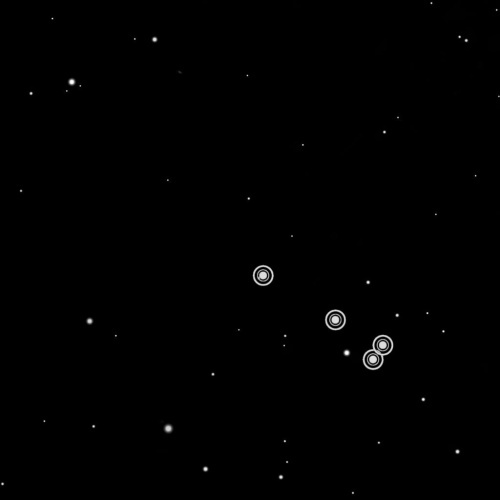sagitta: (244, 255, 401, 382)
